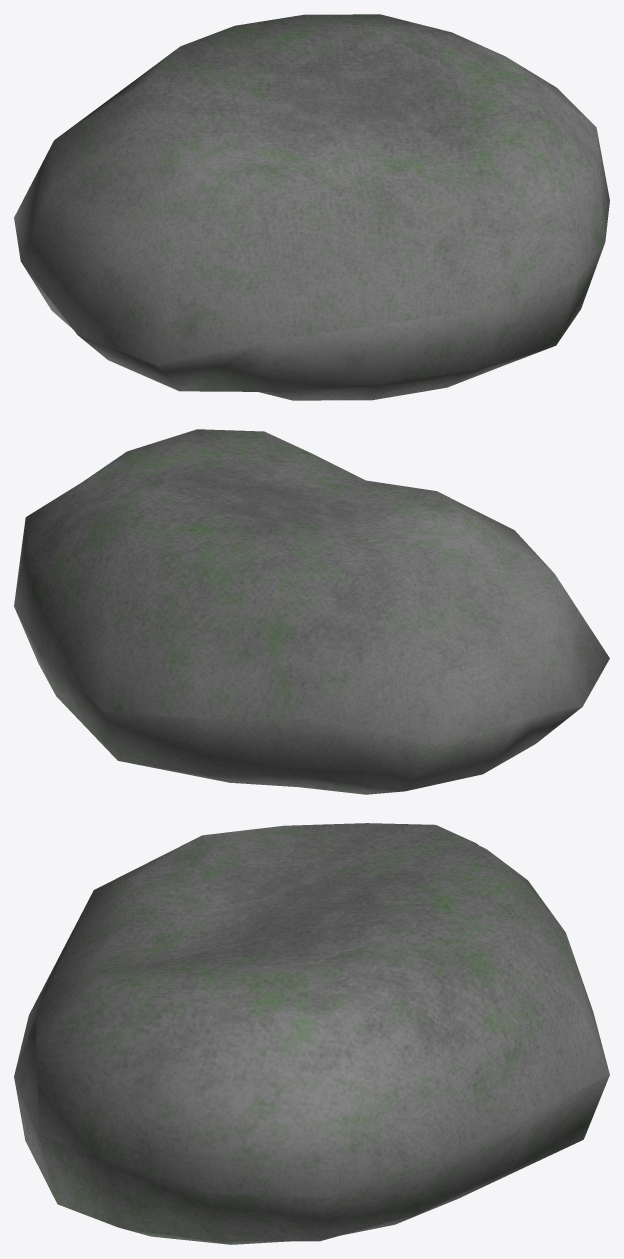
File: Stone 3.fbx
The picture shows the model from 3 angles, top to bottom: view 1: azimuth 30°, elevation 25°; view 2: azimuth 150°, elevation 25°; view 3: azimuth 270°, elevation 25°; orthographic projection. The views are drawn at different scales.
Parts seen in each view (by area): view 1: Stone 3; view 2: Stone 3; view 3: Stone 3.
Part boxes in pixels (left/top/right/bottom): Stone 3: left=14, top=14, right=609, bottom=400; Stone 3: left=14, top=429, right=609, bottom=794; Stone 3: left=14, top=823, right=609, bottom=1244.
Bounding box in the file's own units: 235 × 102 × 197.
